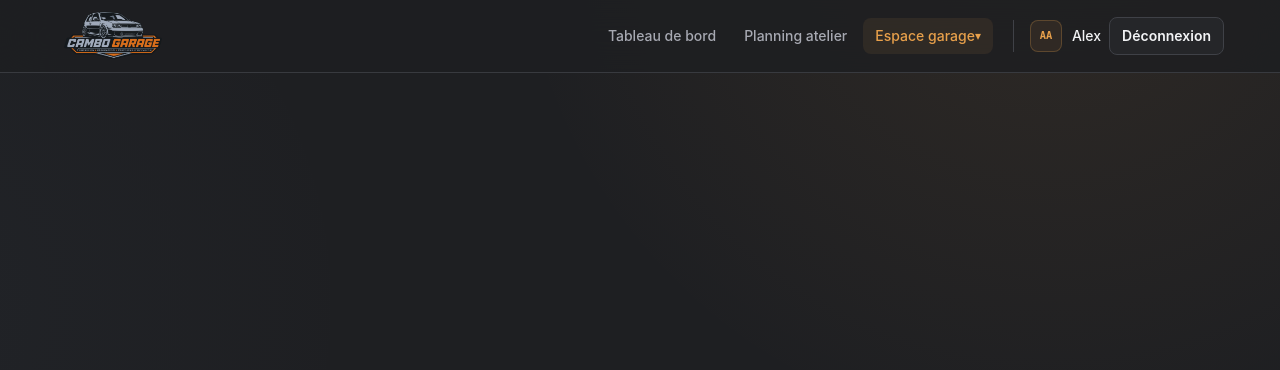
SiteHeader › identifie la route active sans dupliquer les liens
Click the button "Espace garage ▾" at (928, 36), box [863,18,993,54]
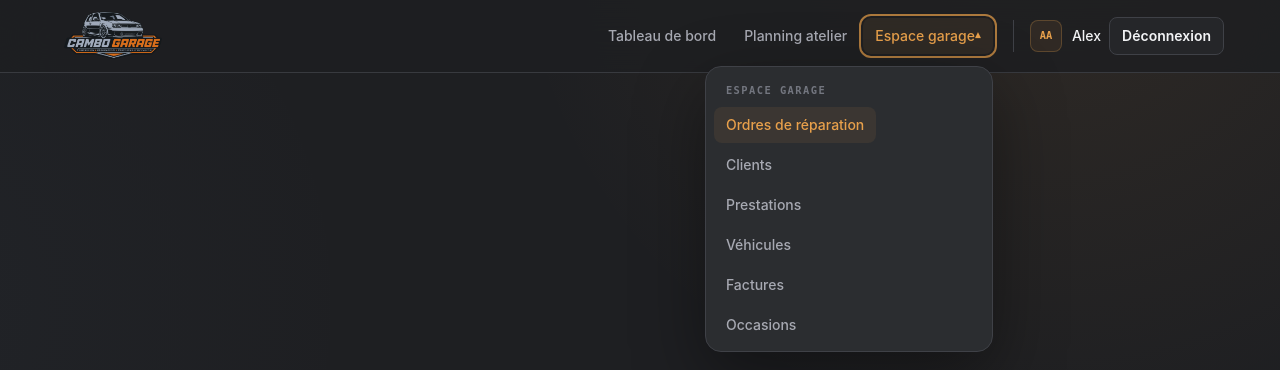
Expected: the number of links "Ordres de réparation" is 1, [714,107,876,143]
